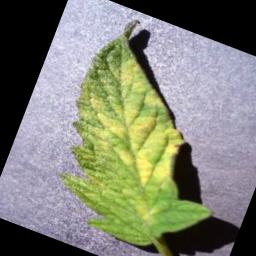Leaf_Mold: (39, 28, 218, 236)
